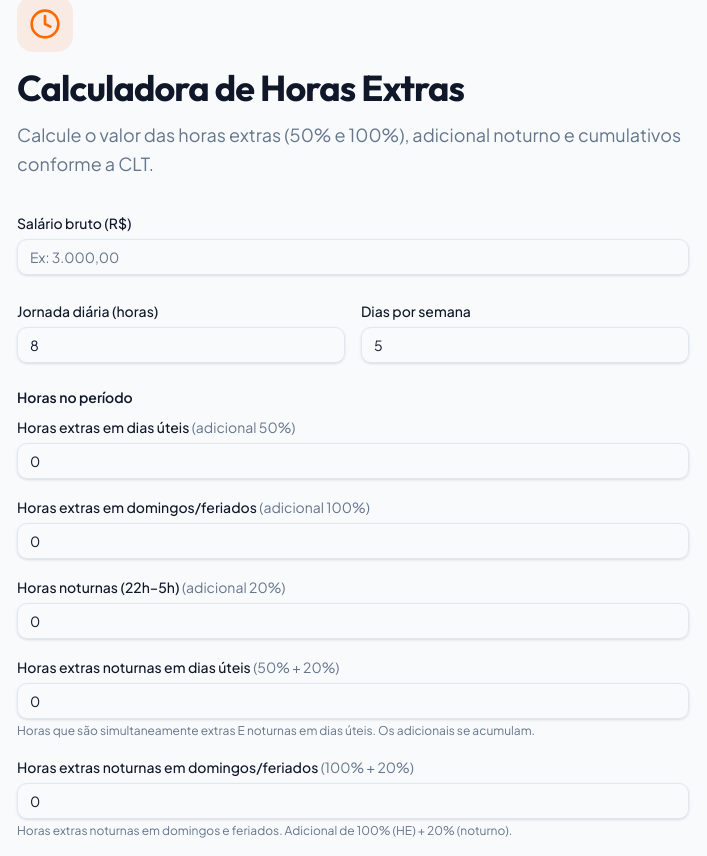
Test: HorasExtrasPage — validação do formulário (Task 5.1) › aviso de salário abaixo do mínimo não bloqueia o cálculo
Type "1000" into the field labelled "Salário bruto (R$)" at (353, 256), box [17,238,689,274]
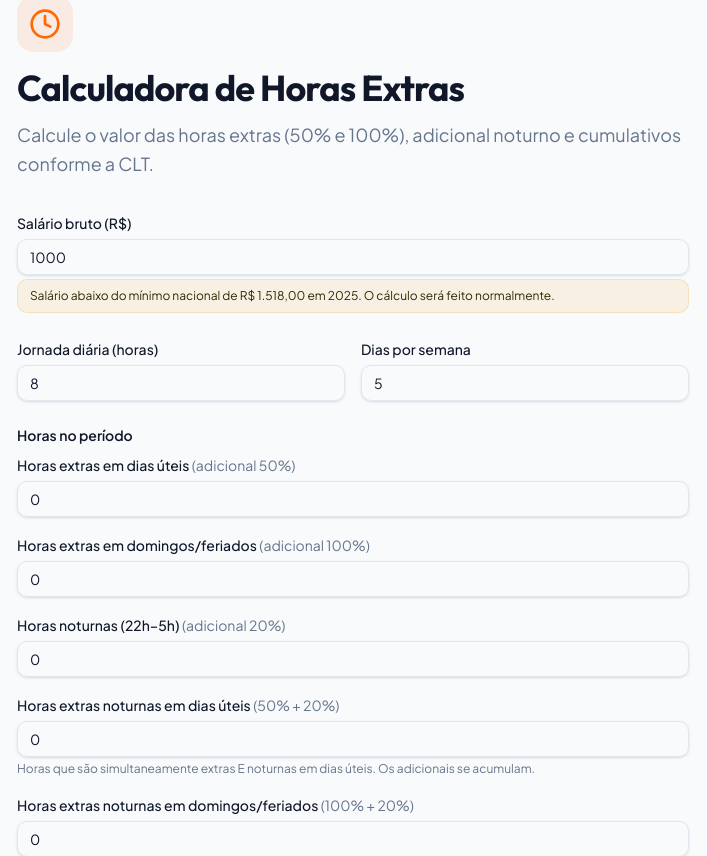
Replace the text in the number field labelled "Horas extras em dias úteis (adicional 50%)" with "10" at (353, 498), box [17,480,689,516]
(page scrolled)
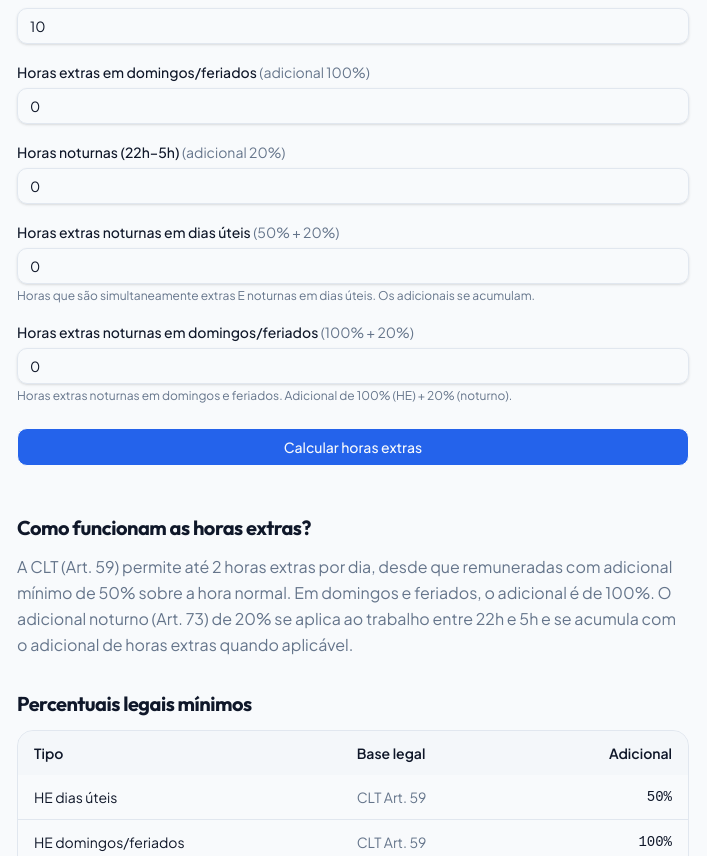
Click the button "Calcular horas extras" at (353, 446), box [17,428,689,466]
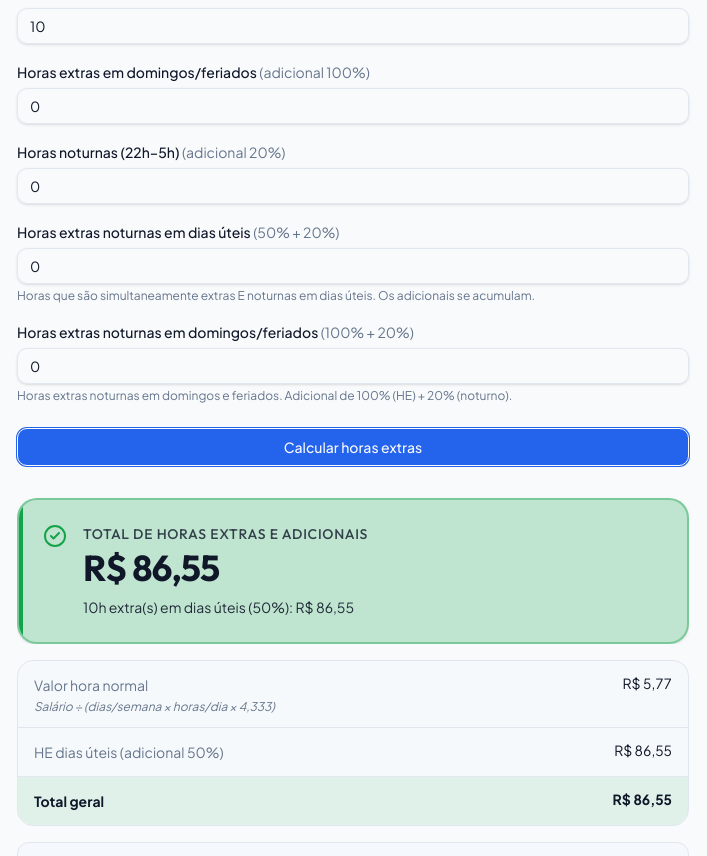
Expected: the heading "Total de horas extras e adicionais" is shown, [83,524,368,542]
